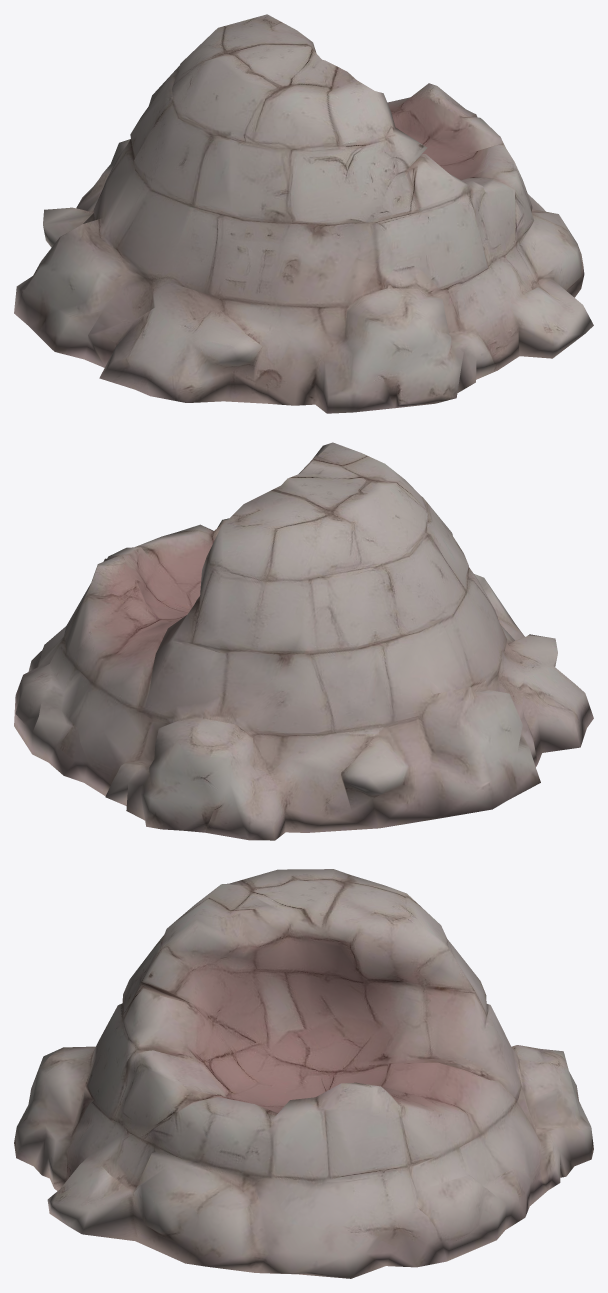
The model's file is pale-fractured-mass.glb.
3 renders of one model, top to bottom at view 1: azimuth 30°, elevation 25°; view 2: azimuth 150°, elevation 25°; view 3: azimuth 270°, elevation 25°, orthographic.
Visible parts, largest first — view 1: tripo_node_cafdf45f-f1eb-40fe-a2c2-3149f38b4b73; view 2: tripo_node_cafdf45f-f1eb-40fe-a2c2-3149f38b4b73; view 3: tripo_node_cafdf45f-f1eb-40fe-a2c2-3149f38b4b73.
Boxes of the visible parts, x1,y1,x2,y2 form: tripo_node_cafdf45f-f1eb-40fe-a2c2-3149f38b4b73: (14, 14, 593, 413); tripo_node_cafdf45f-f1eb-40fe-a2c2-3149f38b4b73: (14, 442, 593, 840); tripo_node_cafdf45f-f1eb-40fe-a2c2-3149f38b4b73: (14, 869, 593, 1278).
Size of the model in its own units: 0.9762 by 0.472 by 0.9758.
1 material, 1 textured.
